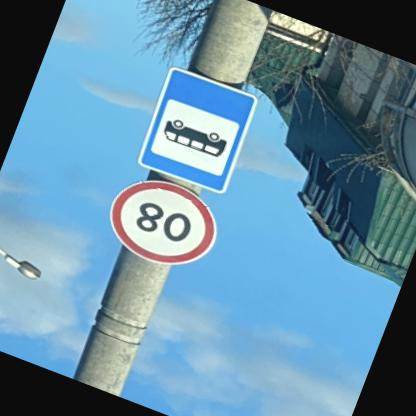speedlimit: (96, 166, 227, 280)
